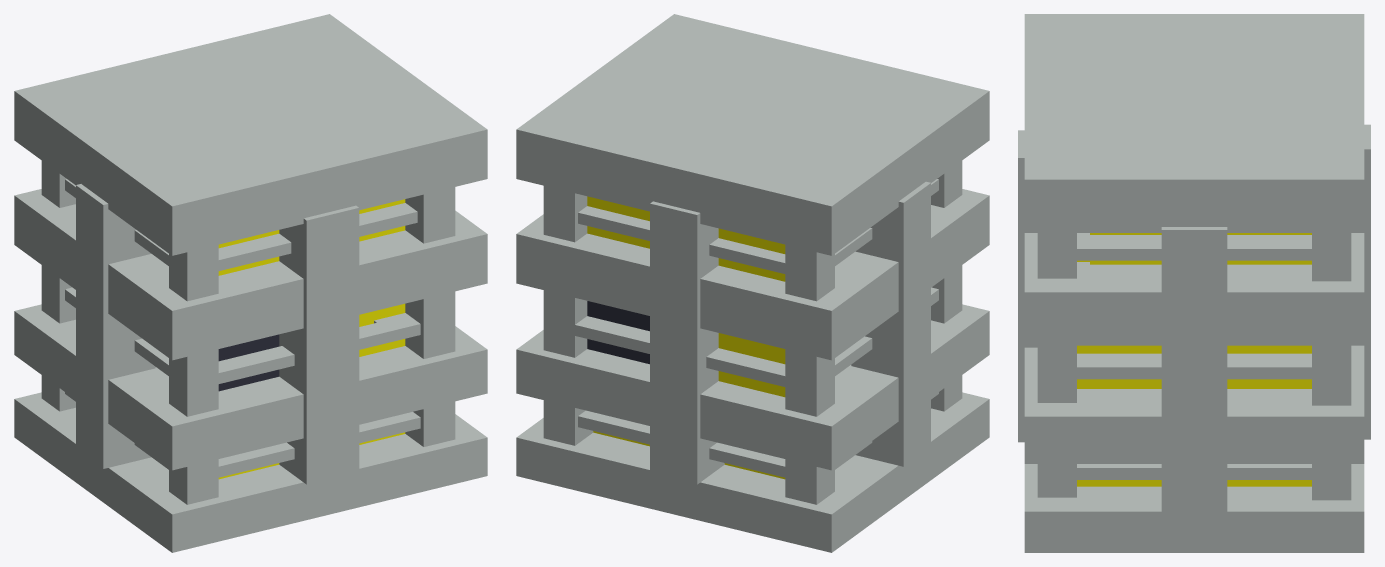
File: Building002(4).obj
The picture shows the model from 3 angles, left to right: view 1: azimuth 30°, elevation 25°; view 2: azimuth 150°, elevation 25°; view 3: azimuth 270°, elevation 25°; orthographic projection. The views are drawn at different scales.
Size of the model in its own units: 6.2 by 6.3 by 5.4.
Materials: 1 (1 with a texture image).
